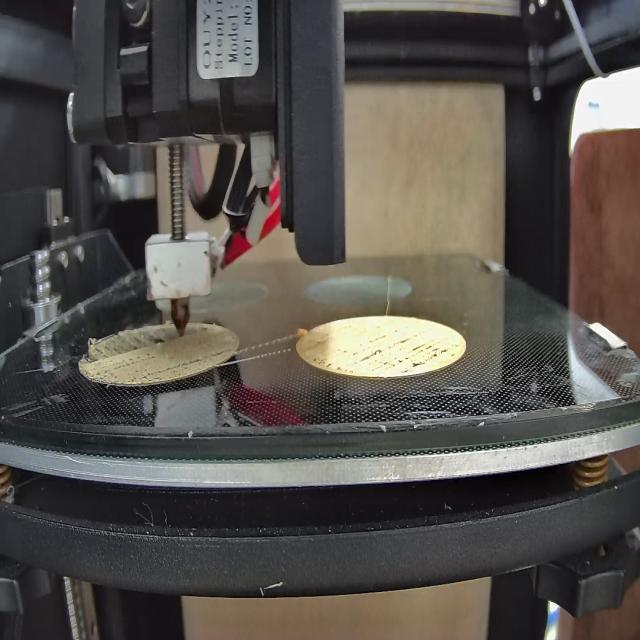under_extrusion: (312, 339, 454, 374), (82, 321, 165, 363), (176, 344, 240, 364)
